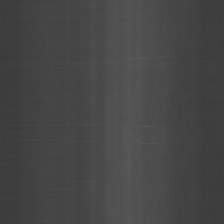waist_folding: (84, 25, 152, 151)
